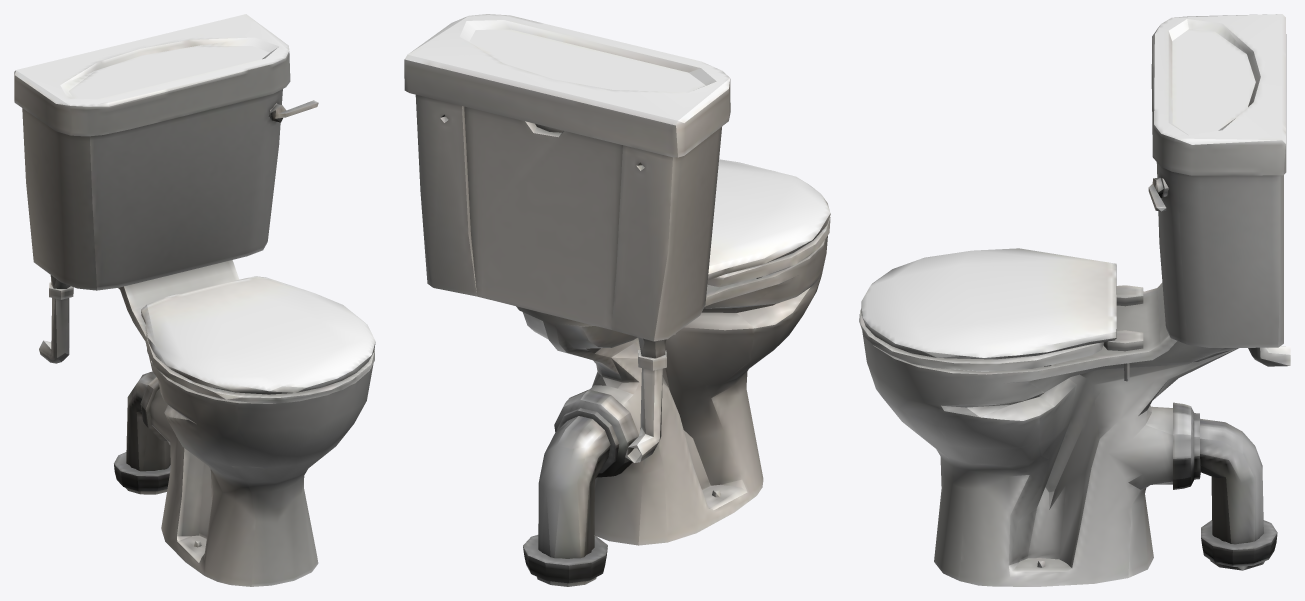
The model's file is basic_toilet.fbx.
3 renders of one model, left to right at view 1: azimuth 30°, elevation 25°; view 2: azimuth 150°, elevation 25°; view 3: azimuth 270°, elevation 25°, orthographic. The views are drawn at different scales.
Parts seen in each view (by area): view 1: Basic toilet; view 2: Basic toilet; view 3: Basic toilet.
Boxes of the visible parts, left/top/right/bottom form: Basic toilet: left=14, top=14, right=375, bottom=586; Basic toilet: left=404, top=14, right=830, bottom=586; Basic toilet: left=859, top=14, right=1290, bottom=586.
Size of the model in its own units: 0.6044 by 0.9833 by 0.7995.
